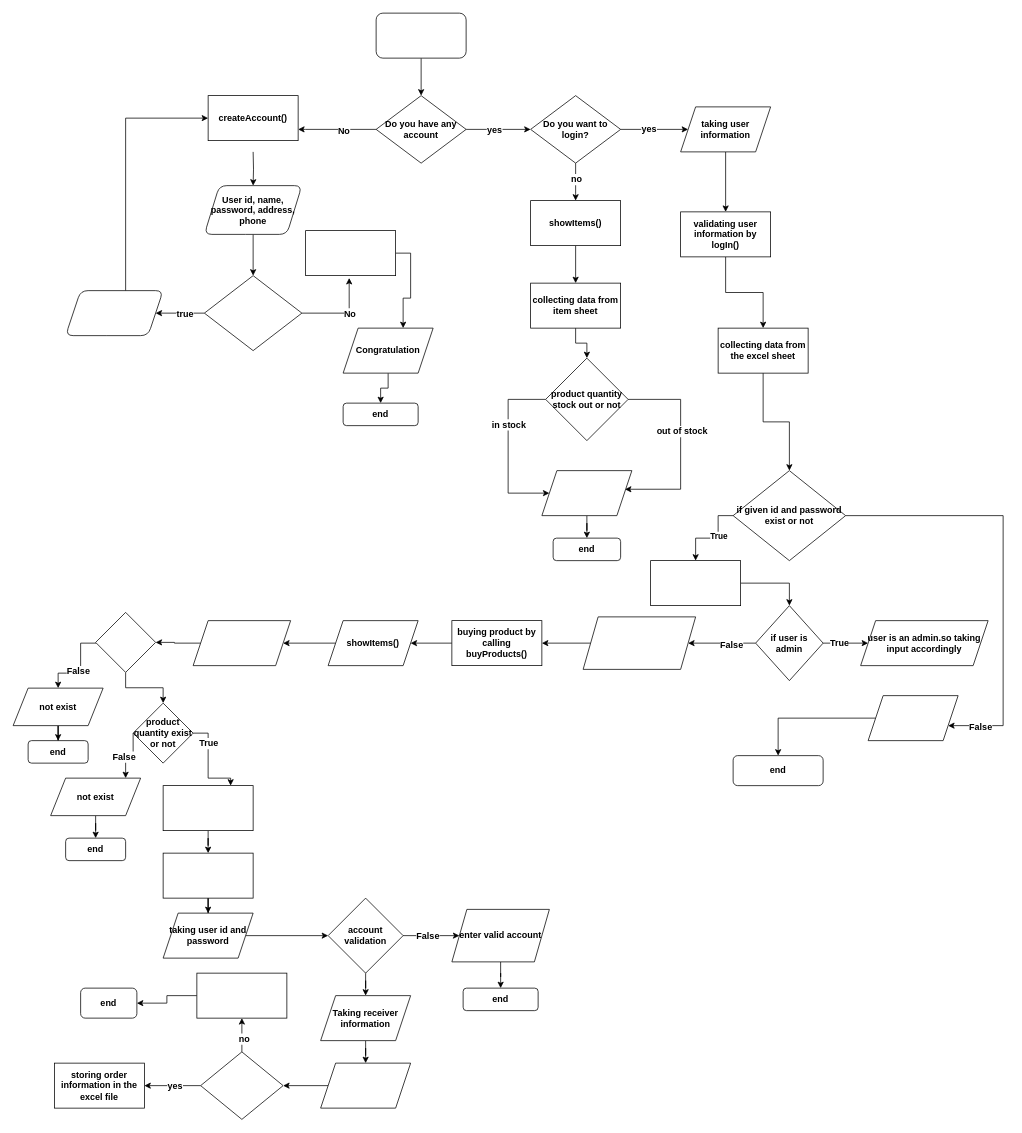
The diagram is 1022 pixels wide and 1133 high, and some of its shapes have lost their labels. The box of each missing label's shape, as (x1, y1, x2, y2) in pixels:
account does not exist: (867, 695, 958, 741)
calculating total price and updating the quantity in the excel sheet: (162, 785, 253, 831)
calling the confirmBuy(): (162, 852, 253, 898)
calling userDecission(): (650, 560, 741, 606)
checking give userid exist or not: (204, 275, 302, 351)
confirm your order: (200, 1051, 283, 1119)
id already exist. try again: (65, 290, 163, 336)
input productId and quantity: (192, 620, 291, 666)
product id exist or not: (95, 612, 156, 672)
return: (196, 972, 287, 1018)
showing order information: (320, 1062, 411, 1108)
showing the items: (541, 470, 632, 516)
Start in Menu(): (375, 12, 466, 58)
storing user information in the excel sheet: (305, 230, 396, 276)
user is a customer.so taking input accordingly: (582, 616, 696, 669)
